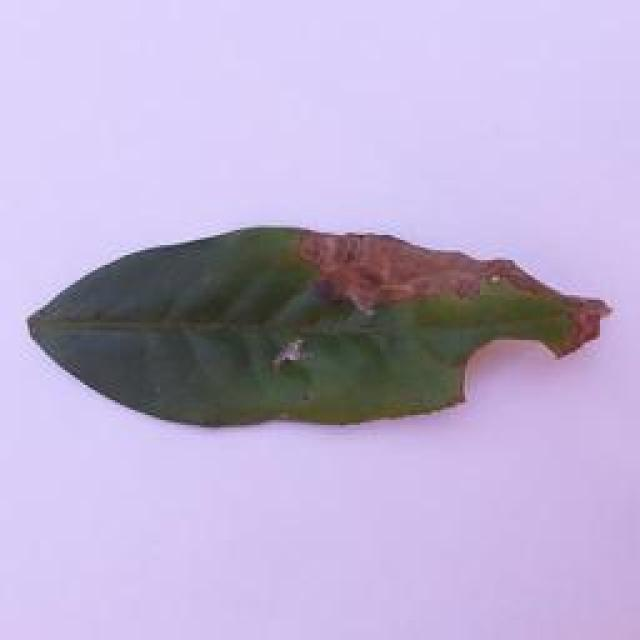Brown Blight: (24, 216, 618, 434)
